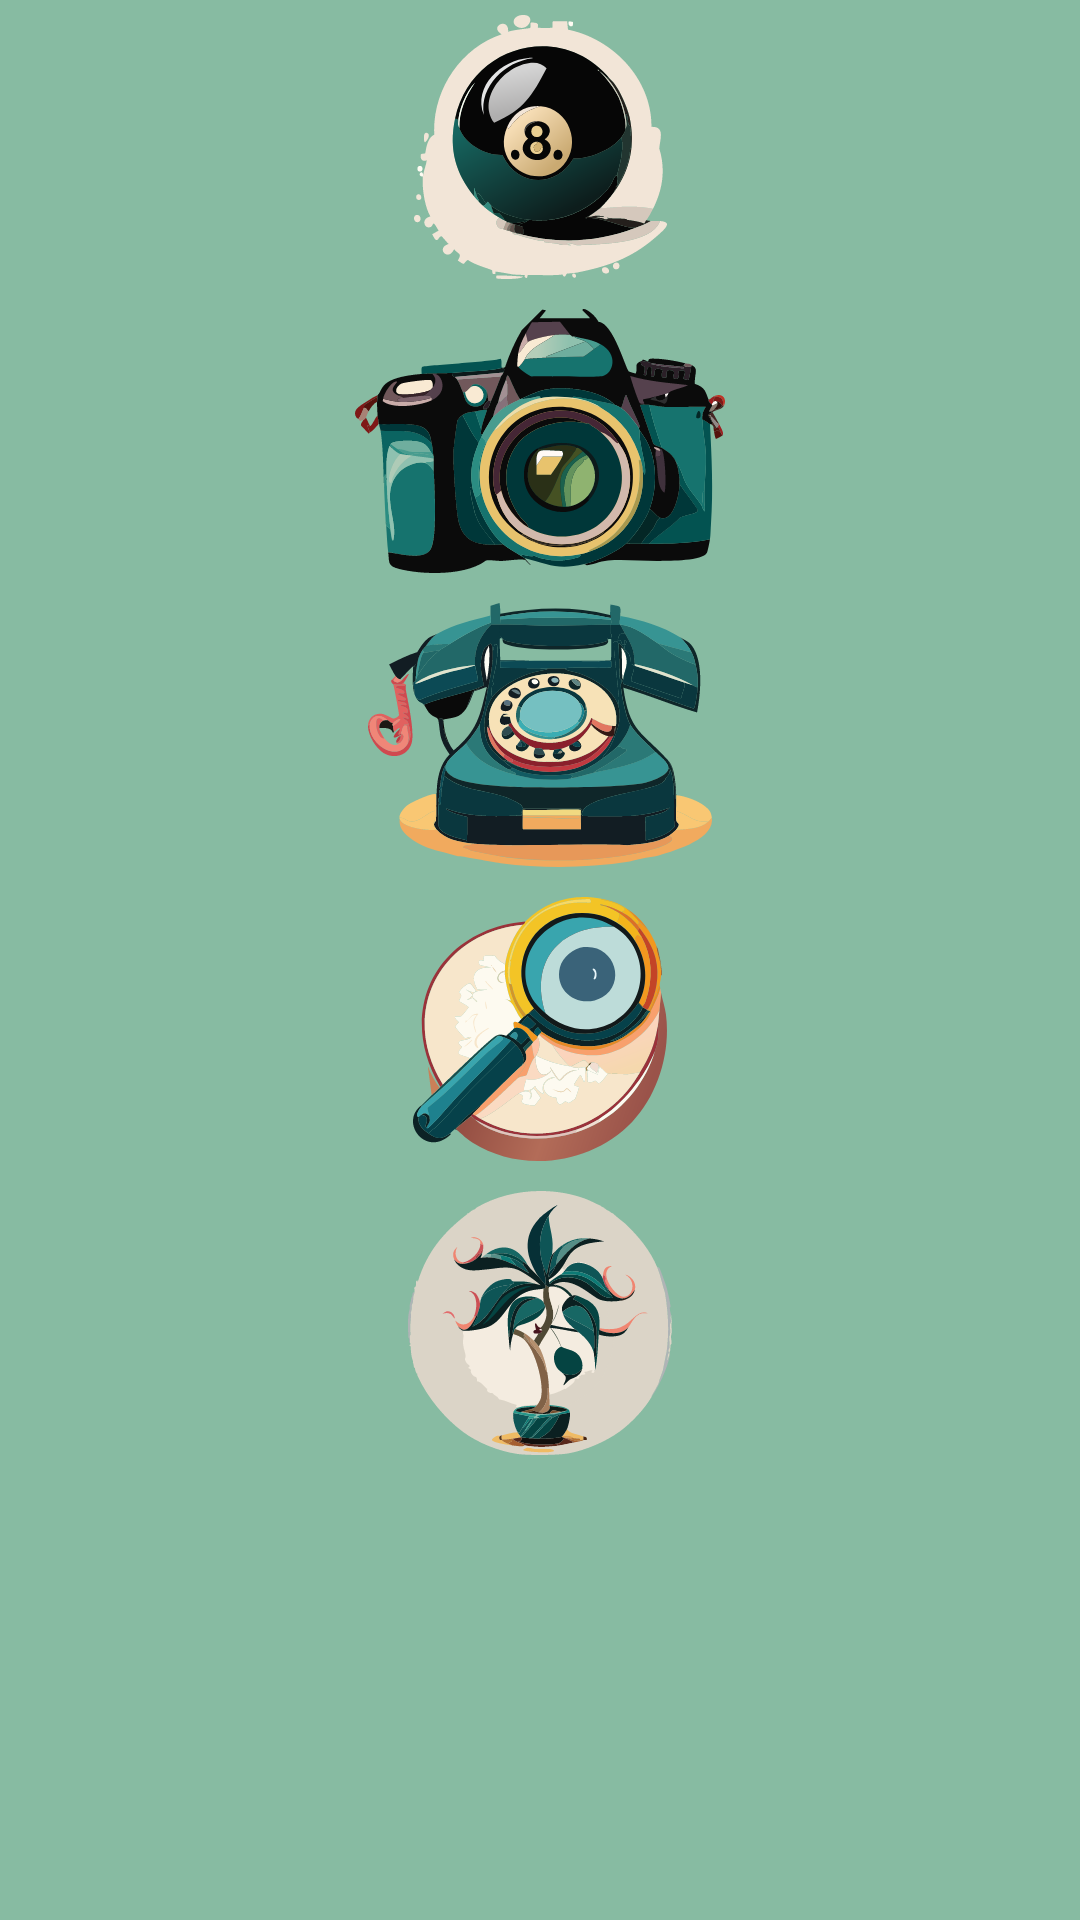

Locate icon controls on the screen. Image size 1080px×1920px, boxes as (x1, y1, x2, y2).
eightball: (414, 15, 667, 279)
evil plant: (408, 1191, 672, 1455)
ringtone: (368, 603, 712, 867)
search: (413, 897, 667, 1161)
